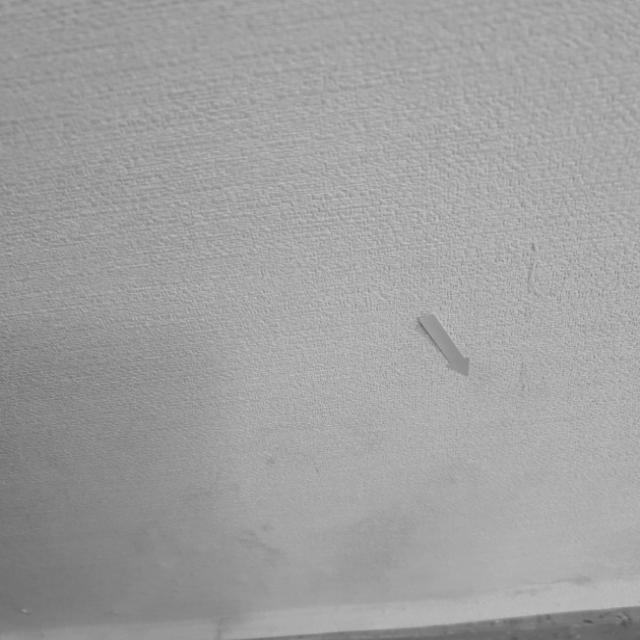stain marks: (11, 486, 302, 618), (340, 489, 431, 595), (520, 207, 546, 433)
